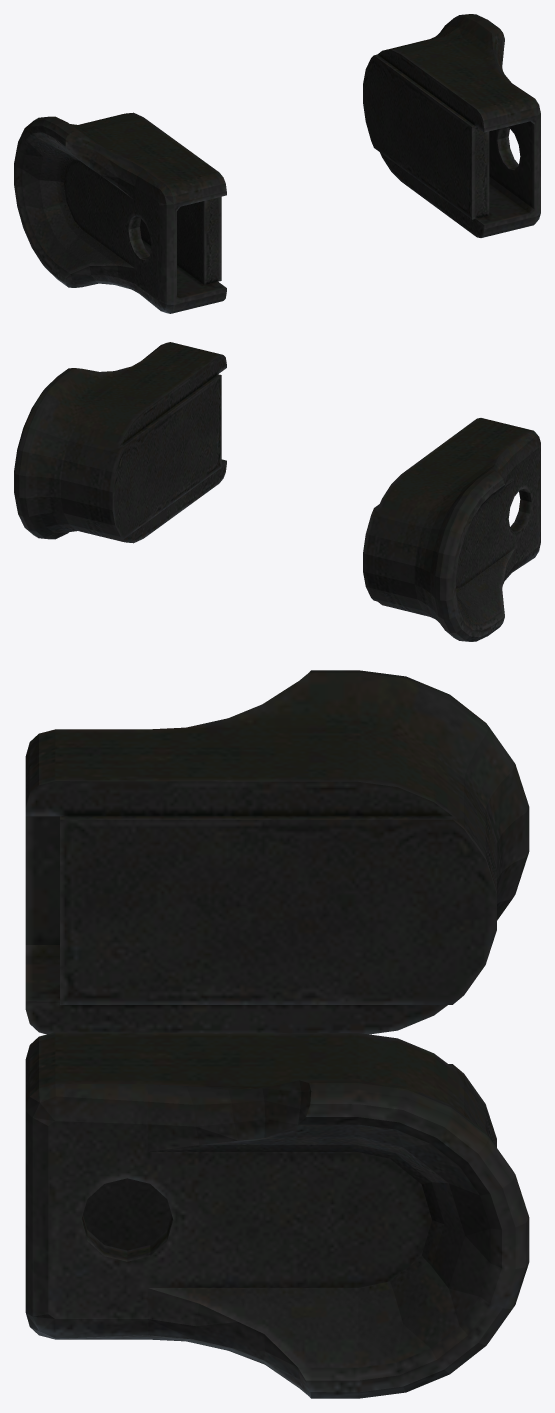
3 renders of one model, top to bottom at view 1: azimuth 30°, elevation 25°; view 2: azimuth 150°, elevation 25°; view 3: azimuth 270°, elevation 25°, orthographic. The views are drawn at different scales.
Parts seen in each view (by area): view 1: TW_5cc6ea78e4a949000e1ea3c1_PZ_Import; view 2: TW_5cc6ea78e4a949000e1ea3c1_PZ_Import; view 3: TW_5cc6ea78e4a949000e1ea3c1_PZ_Import.
Boxes of the visible parts, bbox=[...] form: TW_5cc6ea78e4a949000e1ea3c1_PZ_Import: bbox=[14, 14, 540, 313]; TW_5cc6ea78e4a949000e1ea3c1_PZ_Import: bbox=[14, 342, 540, 641]; TW_5cc6ea78e4a949000e1ea3c1_PZ_Import: bbox=[25, 670, 529, 1398].
Bounding box in the file's own units: 0.0311 × 0.0154 × 0.0106.
1 material, 1 textured.
